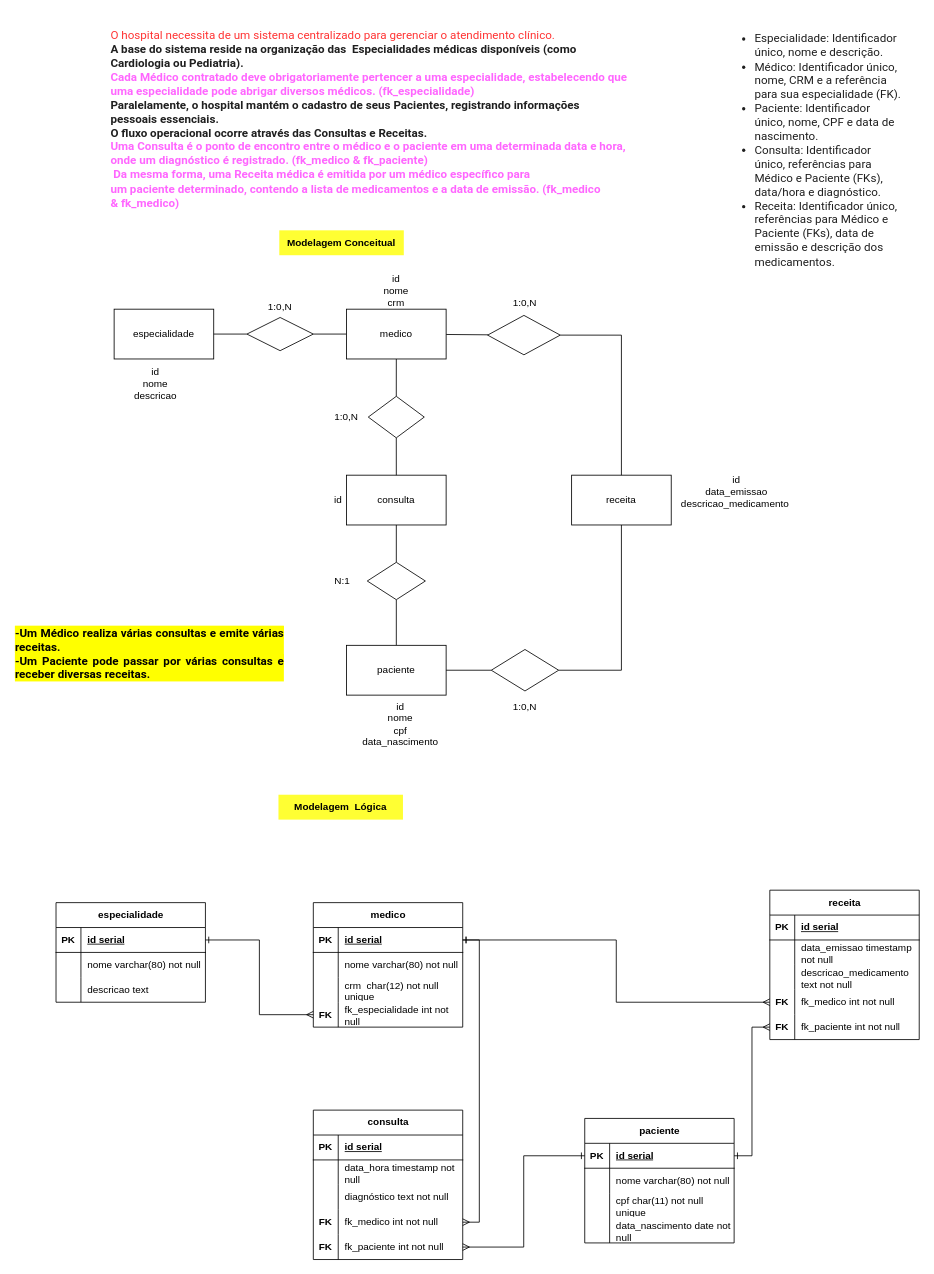
Some shapes in this 934 by 1274 pixel diagram are drawn without their labels. Each missing label, with the centre of its shape:
"destinar" belongs at [524,670].
"emitir" belongs at [523,335].
"obter" belongs at [395,580].
"possuir" belongs at [279,334].
"realizar" belongs at [395,416].
